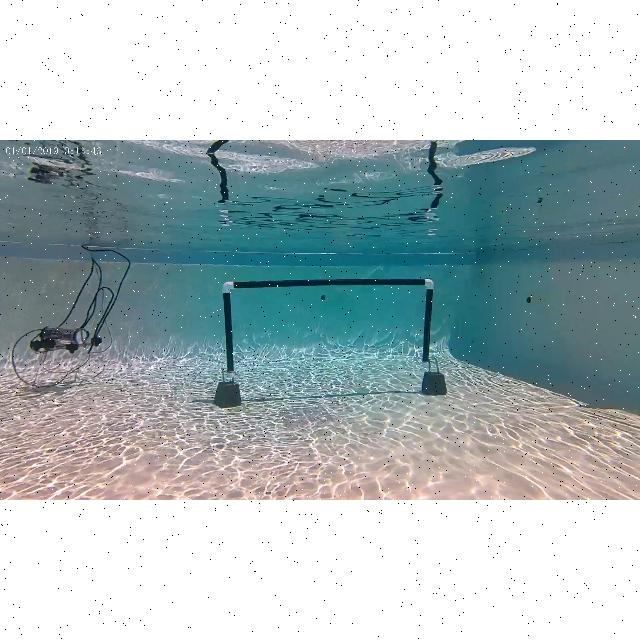prequal gate: (223, 278, 433, 368)
prequal gate leg l: (216, 278, 240, 408)
prequal gate leg r: (421, 276, 449, 399)
